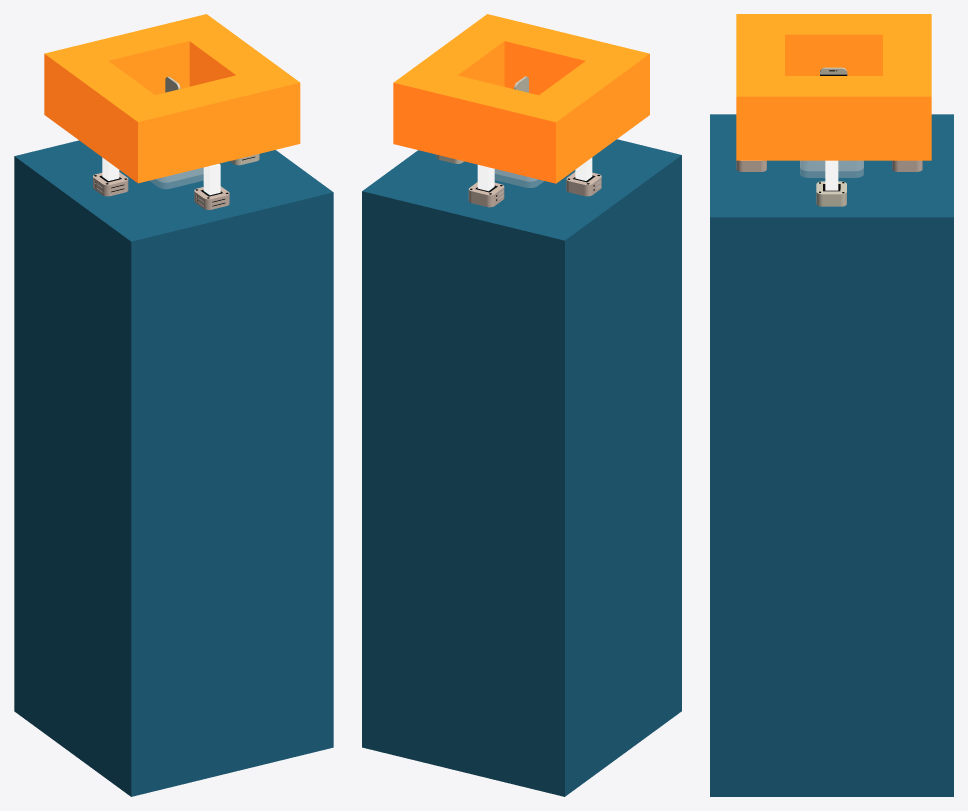
File: pclub.gltf
3 renders of one model, left to right at view 1: azimuth 30°, elevation 25°; view 2: azimuth 150°, elevation 25°; view 3: azimuth 270°, elevation 25°, orthographic. The views are drawn at different scales.
Visible parts, largest first — view 1: Cube.043, DustParticles, Cube.040, Cube.021, Cube.038; view 2: Cube.043, DustParticles, Cube.020, Cube.021; view 3: Cube.043, DustParticles, Cube.040, Cube, Cube.041.
Part boxes in pixels (box(x1,y1,x2,y2)): Cube.043: box(14, 140, 333, 796); DustParticles: box(44, 14, 300, 183); Cube.040: box(150, 168, 203, 188); Cube.021: box(93, 172, 128, 196); Cube.038: box(194, 186, 229, 209); Cube.043: box(362, 139, 681, 796); DustParticles: box(393, 14, 649, 183); Cube.020: box(468, 182, 504, 207); Cube.021: box(566, 172, 601, 196); Cube.043: box(710, 114, 953, 796); DustParticles: box(736, 14, 931, 160); Cube.040: box(800, 162, 863, 177); Cube: box(816, 181, 846, 206); Cube.041: box(800, 161, 863, 170).
Size of the model in its own units: 35.26 by 110 by 35.26.
